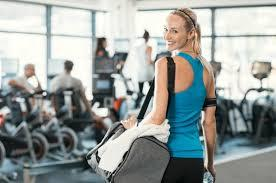bag: (86, 52, 175, 183)
